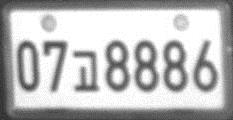0: (16, 39, 41, 90)
6: (191, 39, 219, 92)
7: (42, 39, 68, 92)
8: (161, 38, 188, 92), (104, 39, 131, 91), (133, 39, 160, 91)
고: (72, 49, 100, 92)
